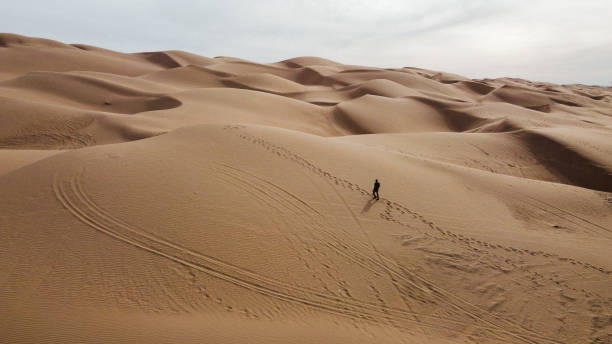human_footprint: (54, 172, 556, 342), (390, 269, 557, 341), (184, 269, 269, 317), (466, 239, 603, 266)
